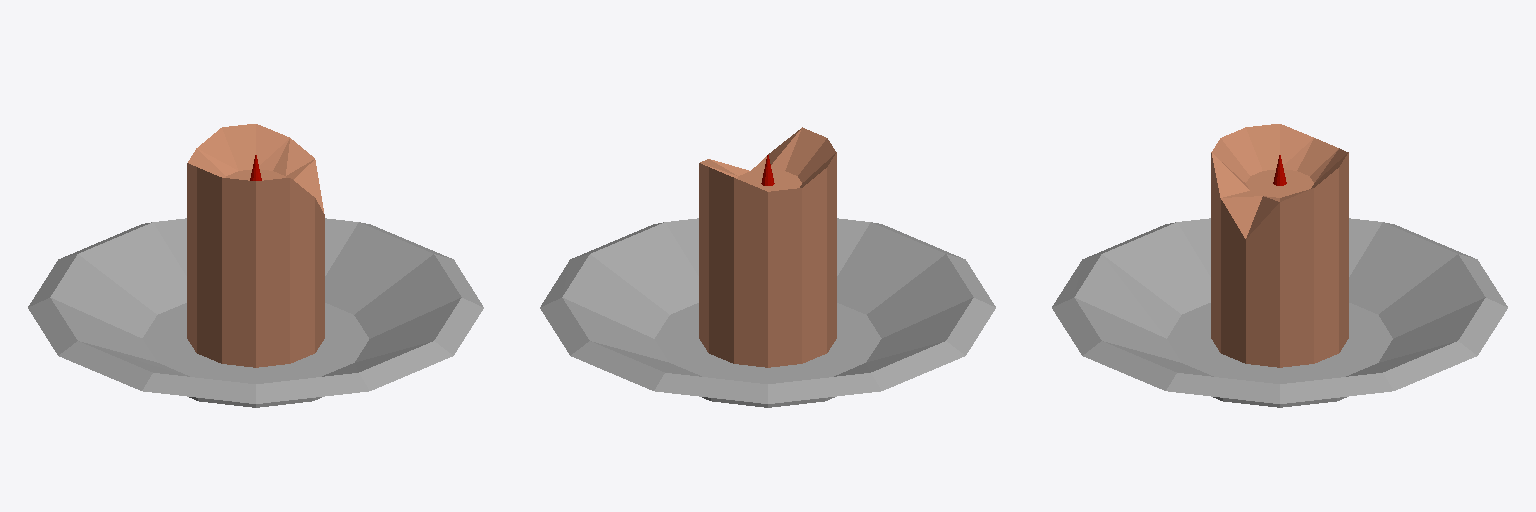
The model's file is candle.obj.
The picture shows the model from 3 angles: view 1: azimuth 30°, elevation 25°; view 2: azimuth 150°, elevation 25°; view 3: azimuth 270°, elevation 25°; orthographic projection.
Parts seen in each view (by area): view 1: Candle; view 2: Candle; view 3: Candle.
Boxes of the visible parts, <box> form: Candle: <box>28,124,483,407</box>; Candle: <box>540,127,995,407</box>; Candle: <box>1052,124,1507,407</box>.
Size of the model in its own units: 0.4 by 0.2 by 0.4.